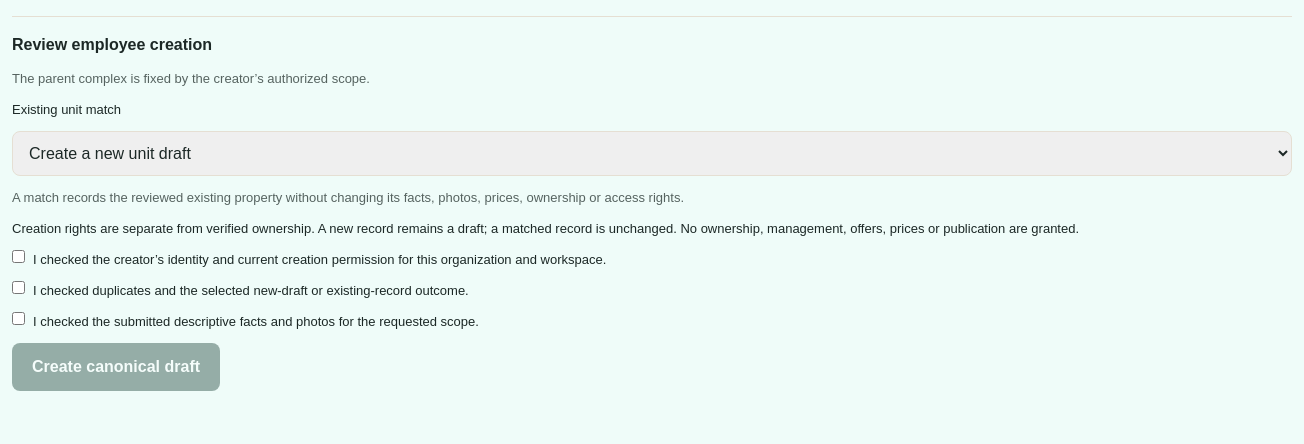
employee creation review › disables the whole review during conversion and requires refresh after response loss
This screenshot has width=1304, height=444.
Click the checkbox named "I checked the creator’s identity and current creation permission for this organization and workspace." at (18, 256), box left=12, top=250, right=25, bottom=263
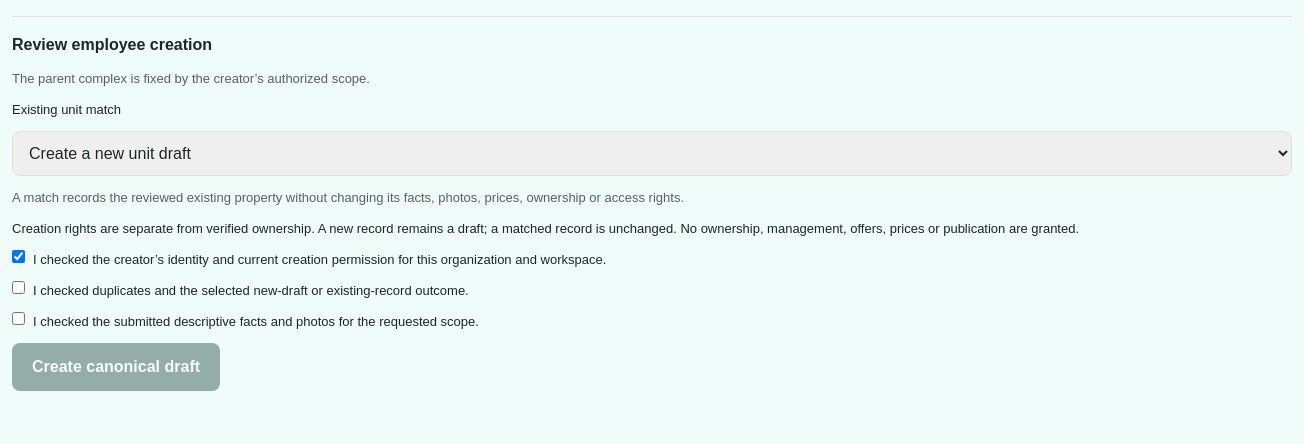
Click the checkbox labelled "I checked duplicates and the selected new-draft or existing-record outcome." at (18, 288), box left=12, top=281, right=25, bottom=294
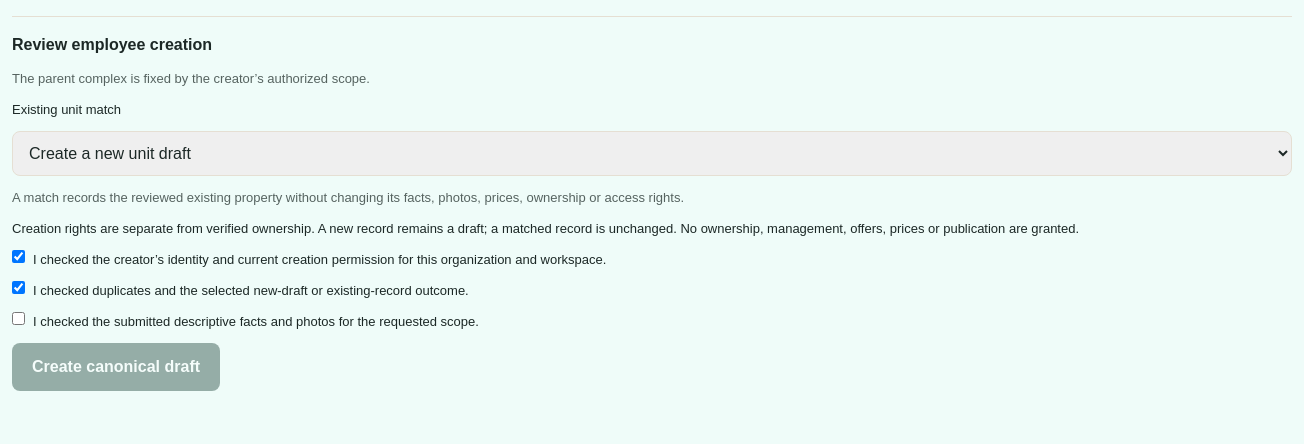
Click the checkbox labelled "I checked the submitted descriptive facts and photos for the requested scope." at (18, 318), box left=12, top=312, right=25, bottom=325
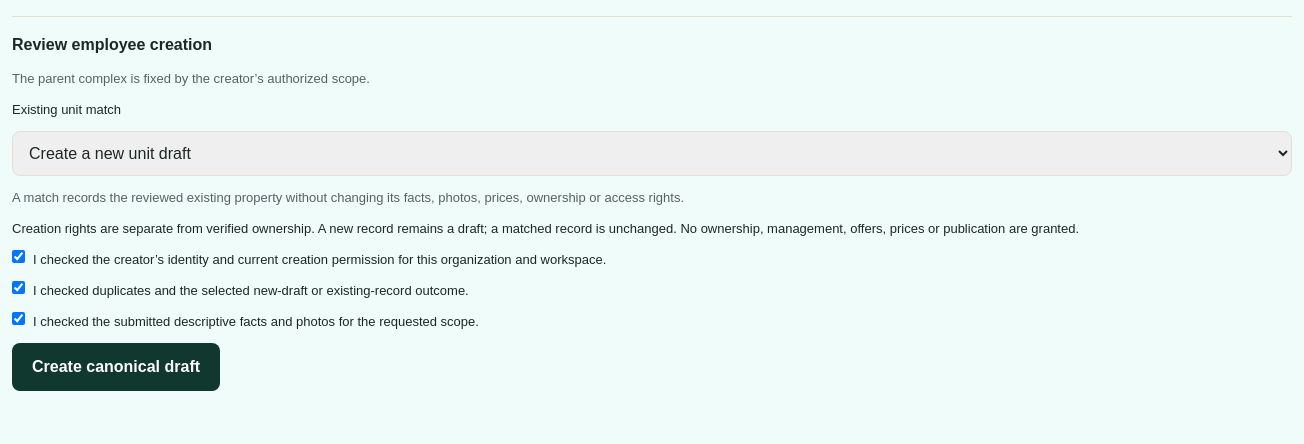
Click the button "Create canonical draft" at (116, 367), box left=12, top=343, right=220, bottom=391
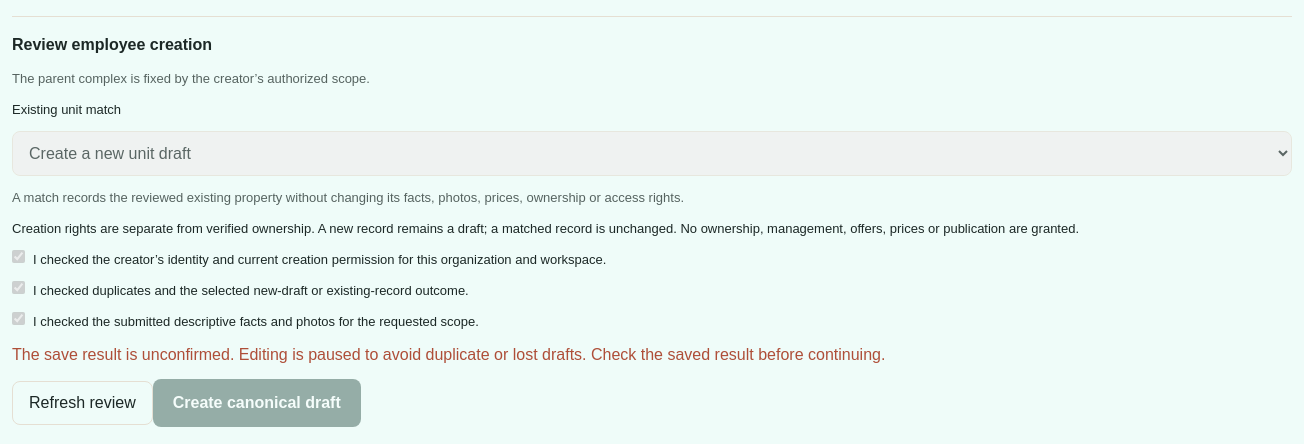
Expected: the checkbox named "I checked the creator’s identity and current creation permission for this organization and workspace." is disabled, left=12, top=250, right=25, bottom=263
Now the button "Refresh review" is shown, box left=12, top=381, right=153, bottom=425
Now the button "Create canonical draft" is disabled, box left=153, top=379, right=361, bottom=427
